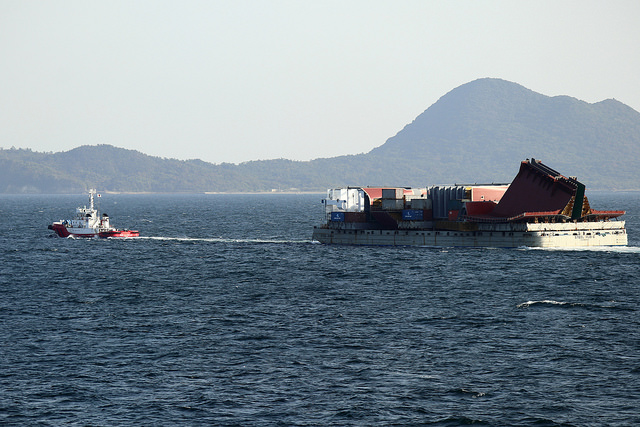tug_boat: (50, 190, 136, 246)
